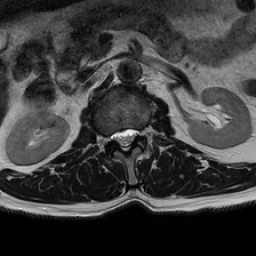CCS_normal: (120, 124, 129, 157)
LFS_stenosis: (138, 124, 144, 141)
LLS_normal: (129, 122, 138, 146)
RFS_stenosis: (102, 130, 112, 148)
RLS_normal: (112, 125, 121, 148)
